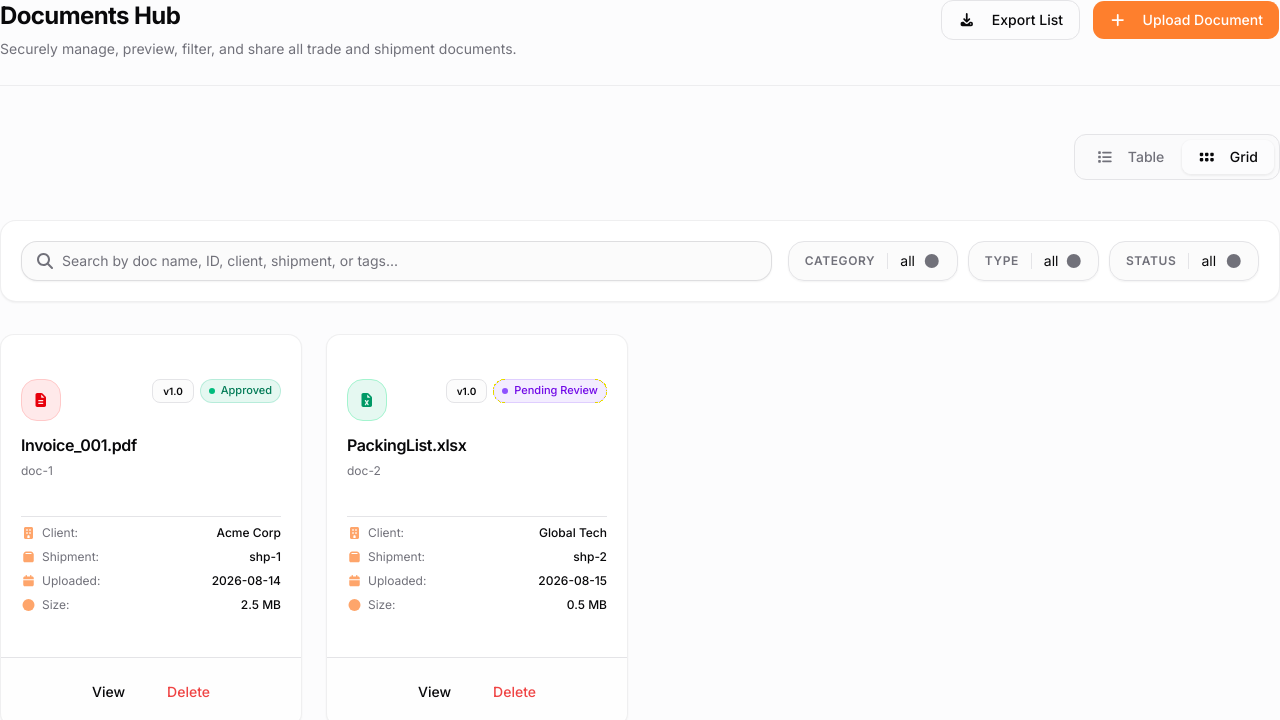
Documents Page › handles soft delete (Move to Recycle Bin)
// Click the first delete button (for Invoice_001.pdf)
Click the button "Delete" below "2.5 MB" at (189, 692), box [150,674,227,710]
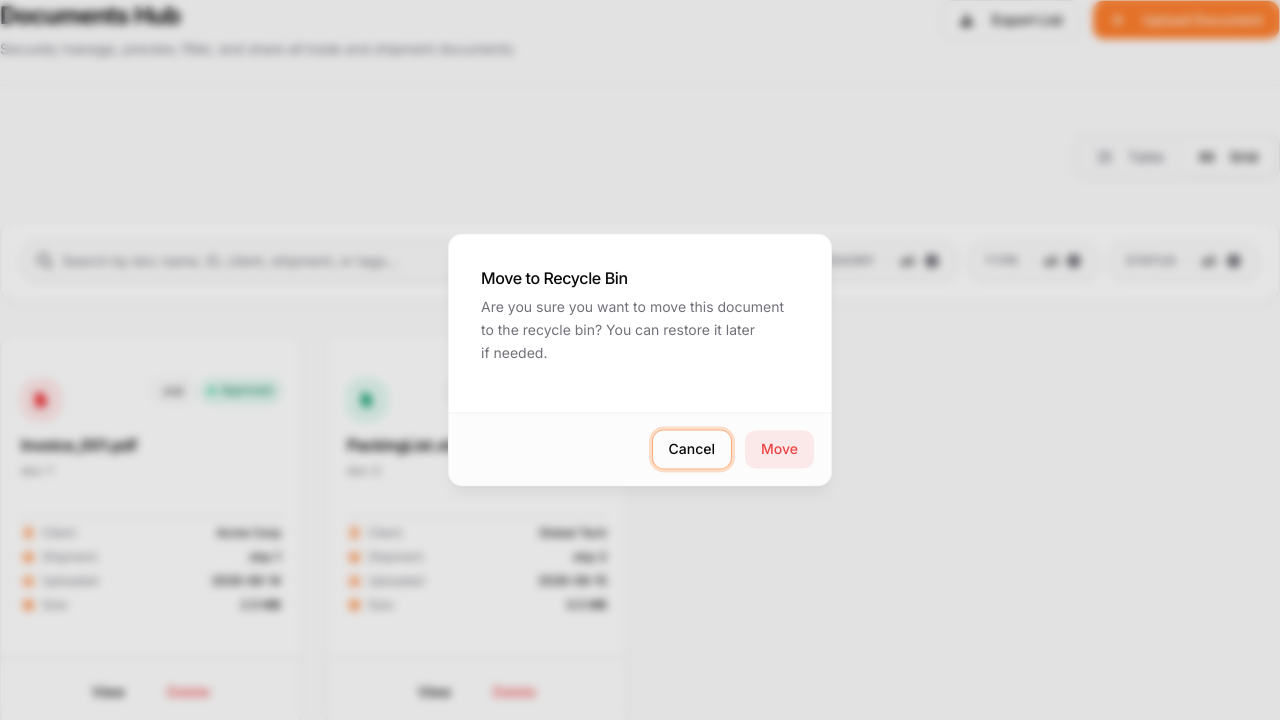
// Wait for modal
Click the button "Move" at (780, 450), box [744,430,815,470]
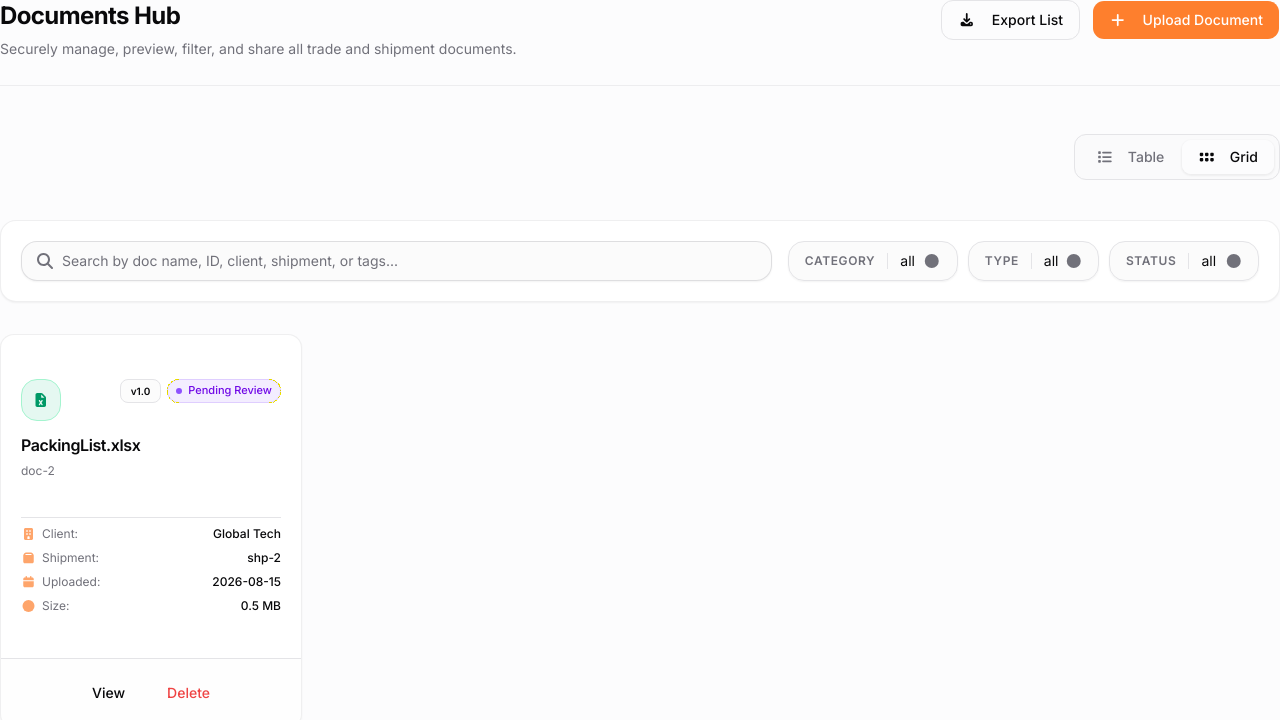
Expected: the link "Invoice_001.pdf" is gone
